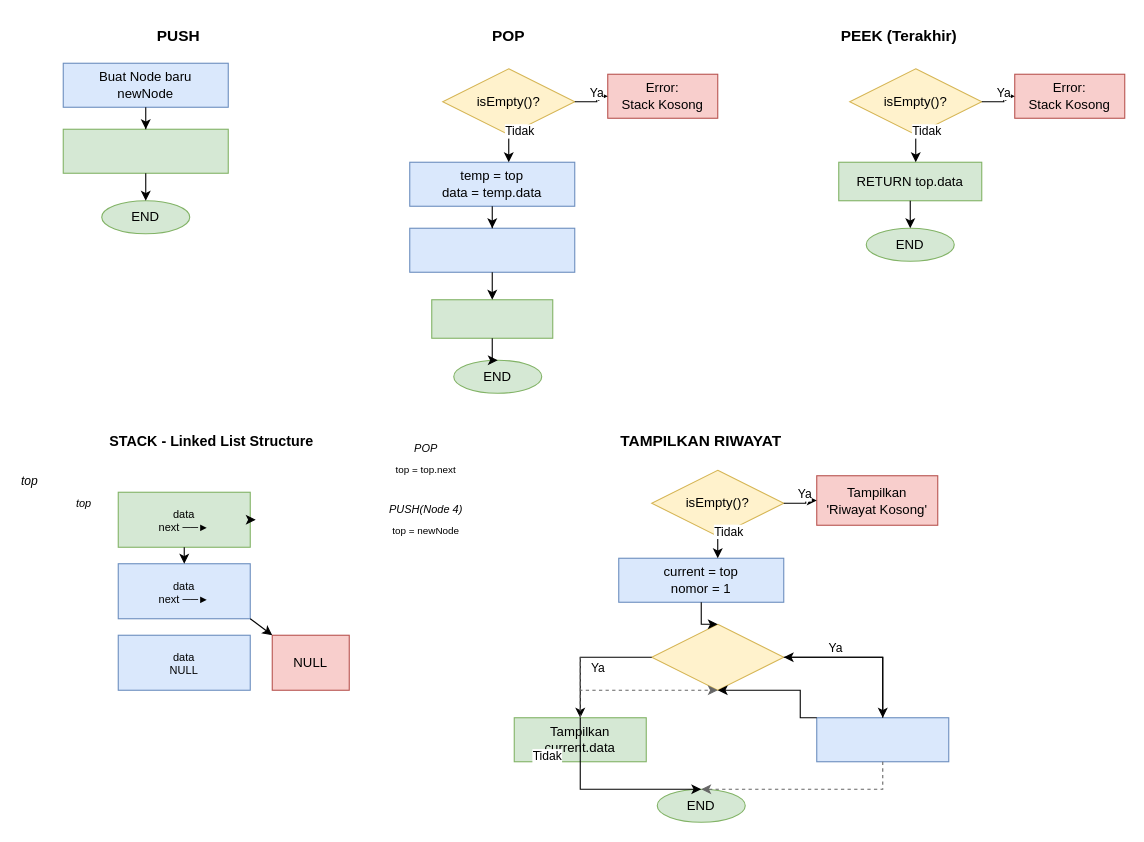
The diagram is 1144 pixels wide and 842 high, and some of its shapes have lost their labels. Here are the shapes that lost their labels. From the top down, the box of each, then its label:
(62, 128, 228, 173): newNode.next = top top = newNode
(409, 227, 575, 272): top = top.next Hapus temp
(431, 299, 553, 338): RETURN data
(117, 491, 250, 547): Node 3 (TOP)
(117, 563, 250, 619): Node 2
(117, 634, 250, 690): Node 1
(651, 623, 784, 690): current != NULL?
(816, 717, 949, 762): current = current.next nomor++
